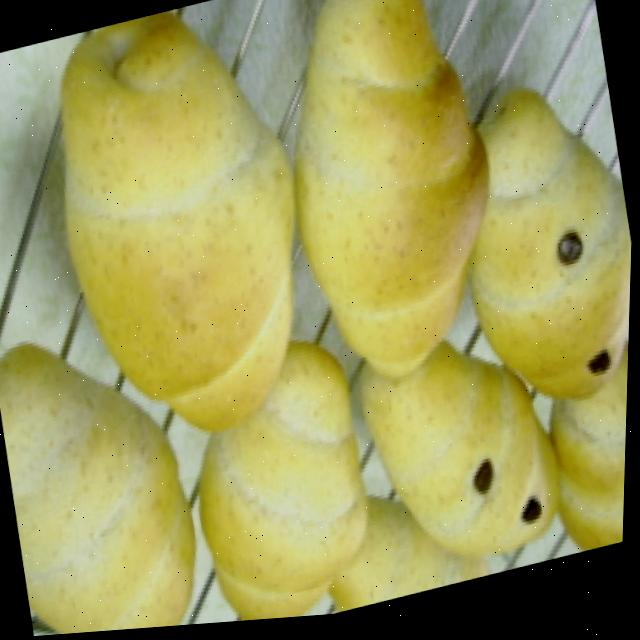面包点心: (16, 0, 337, 486)
